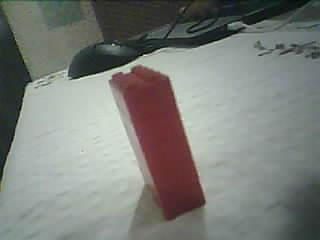lego: (107, 59, 206, 221)
